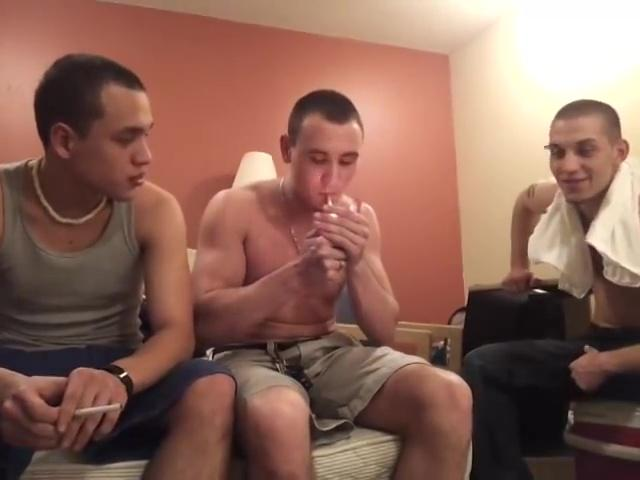cigarette: (70, 399, 129, 422), (325, 191, 336, 211)
